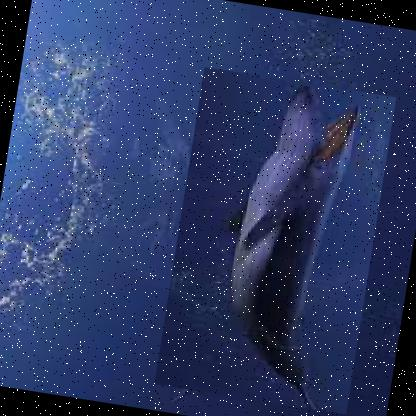blue_whale: (153, 65, 396, 414)
